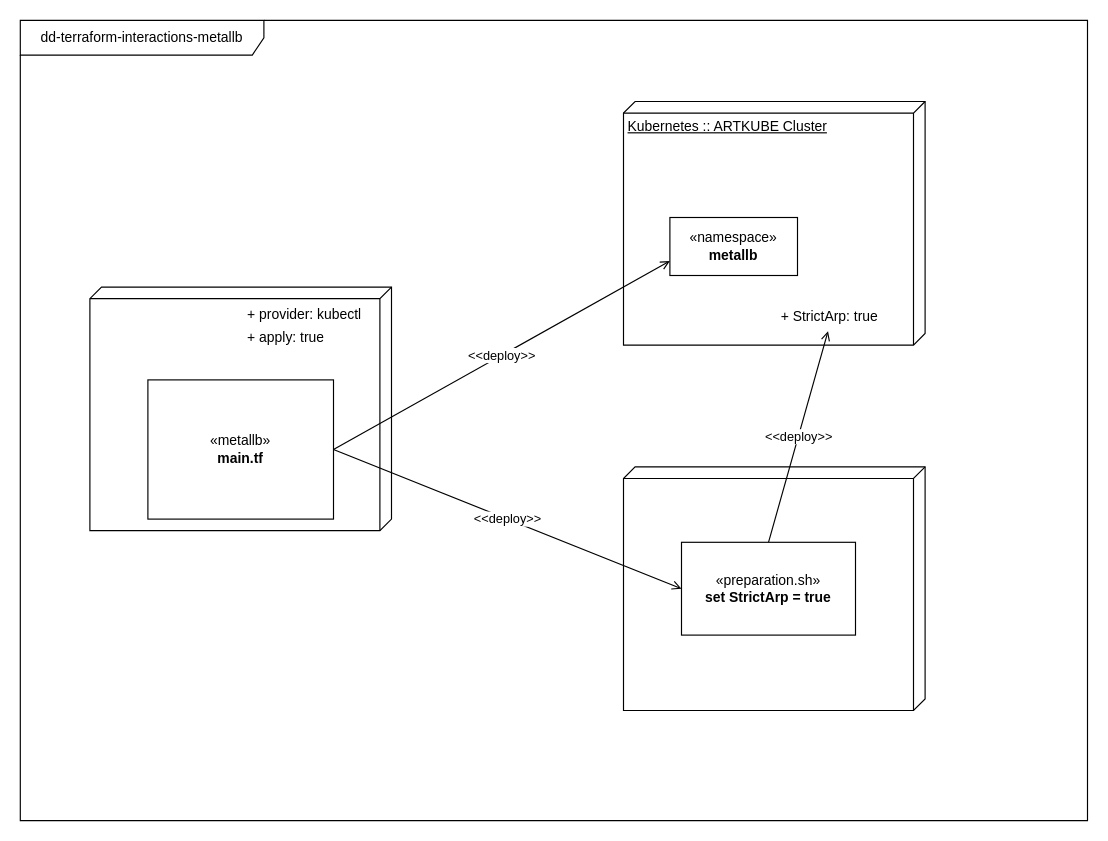
Image size: 1108x841. Some labels were removed from this diagram. Each missing label, with the box of its shape:
Master Node :: Debian: (622, 466, 925, 710)
Terraform :: cluster: (89, 286, 392, 531)
